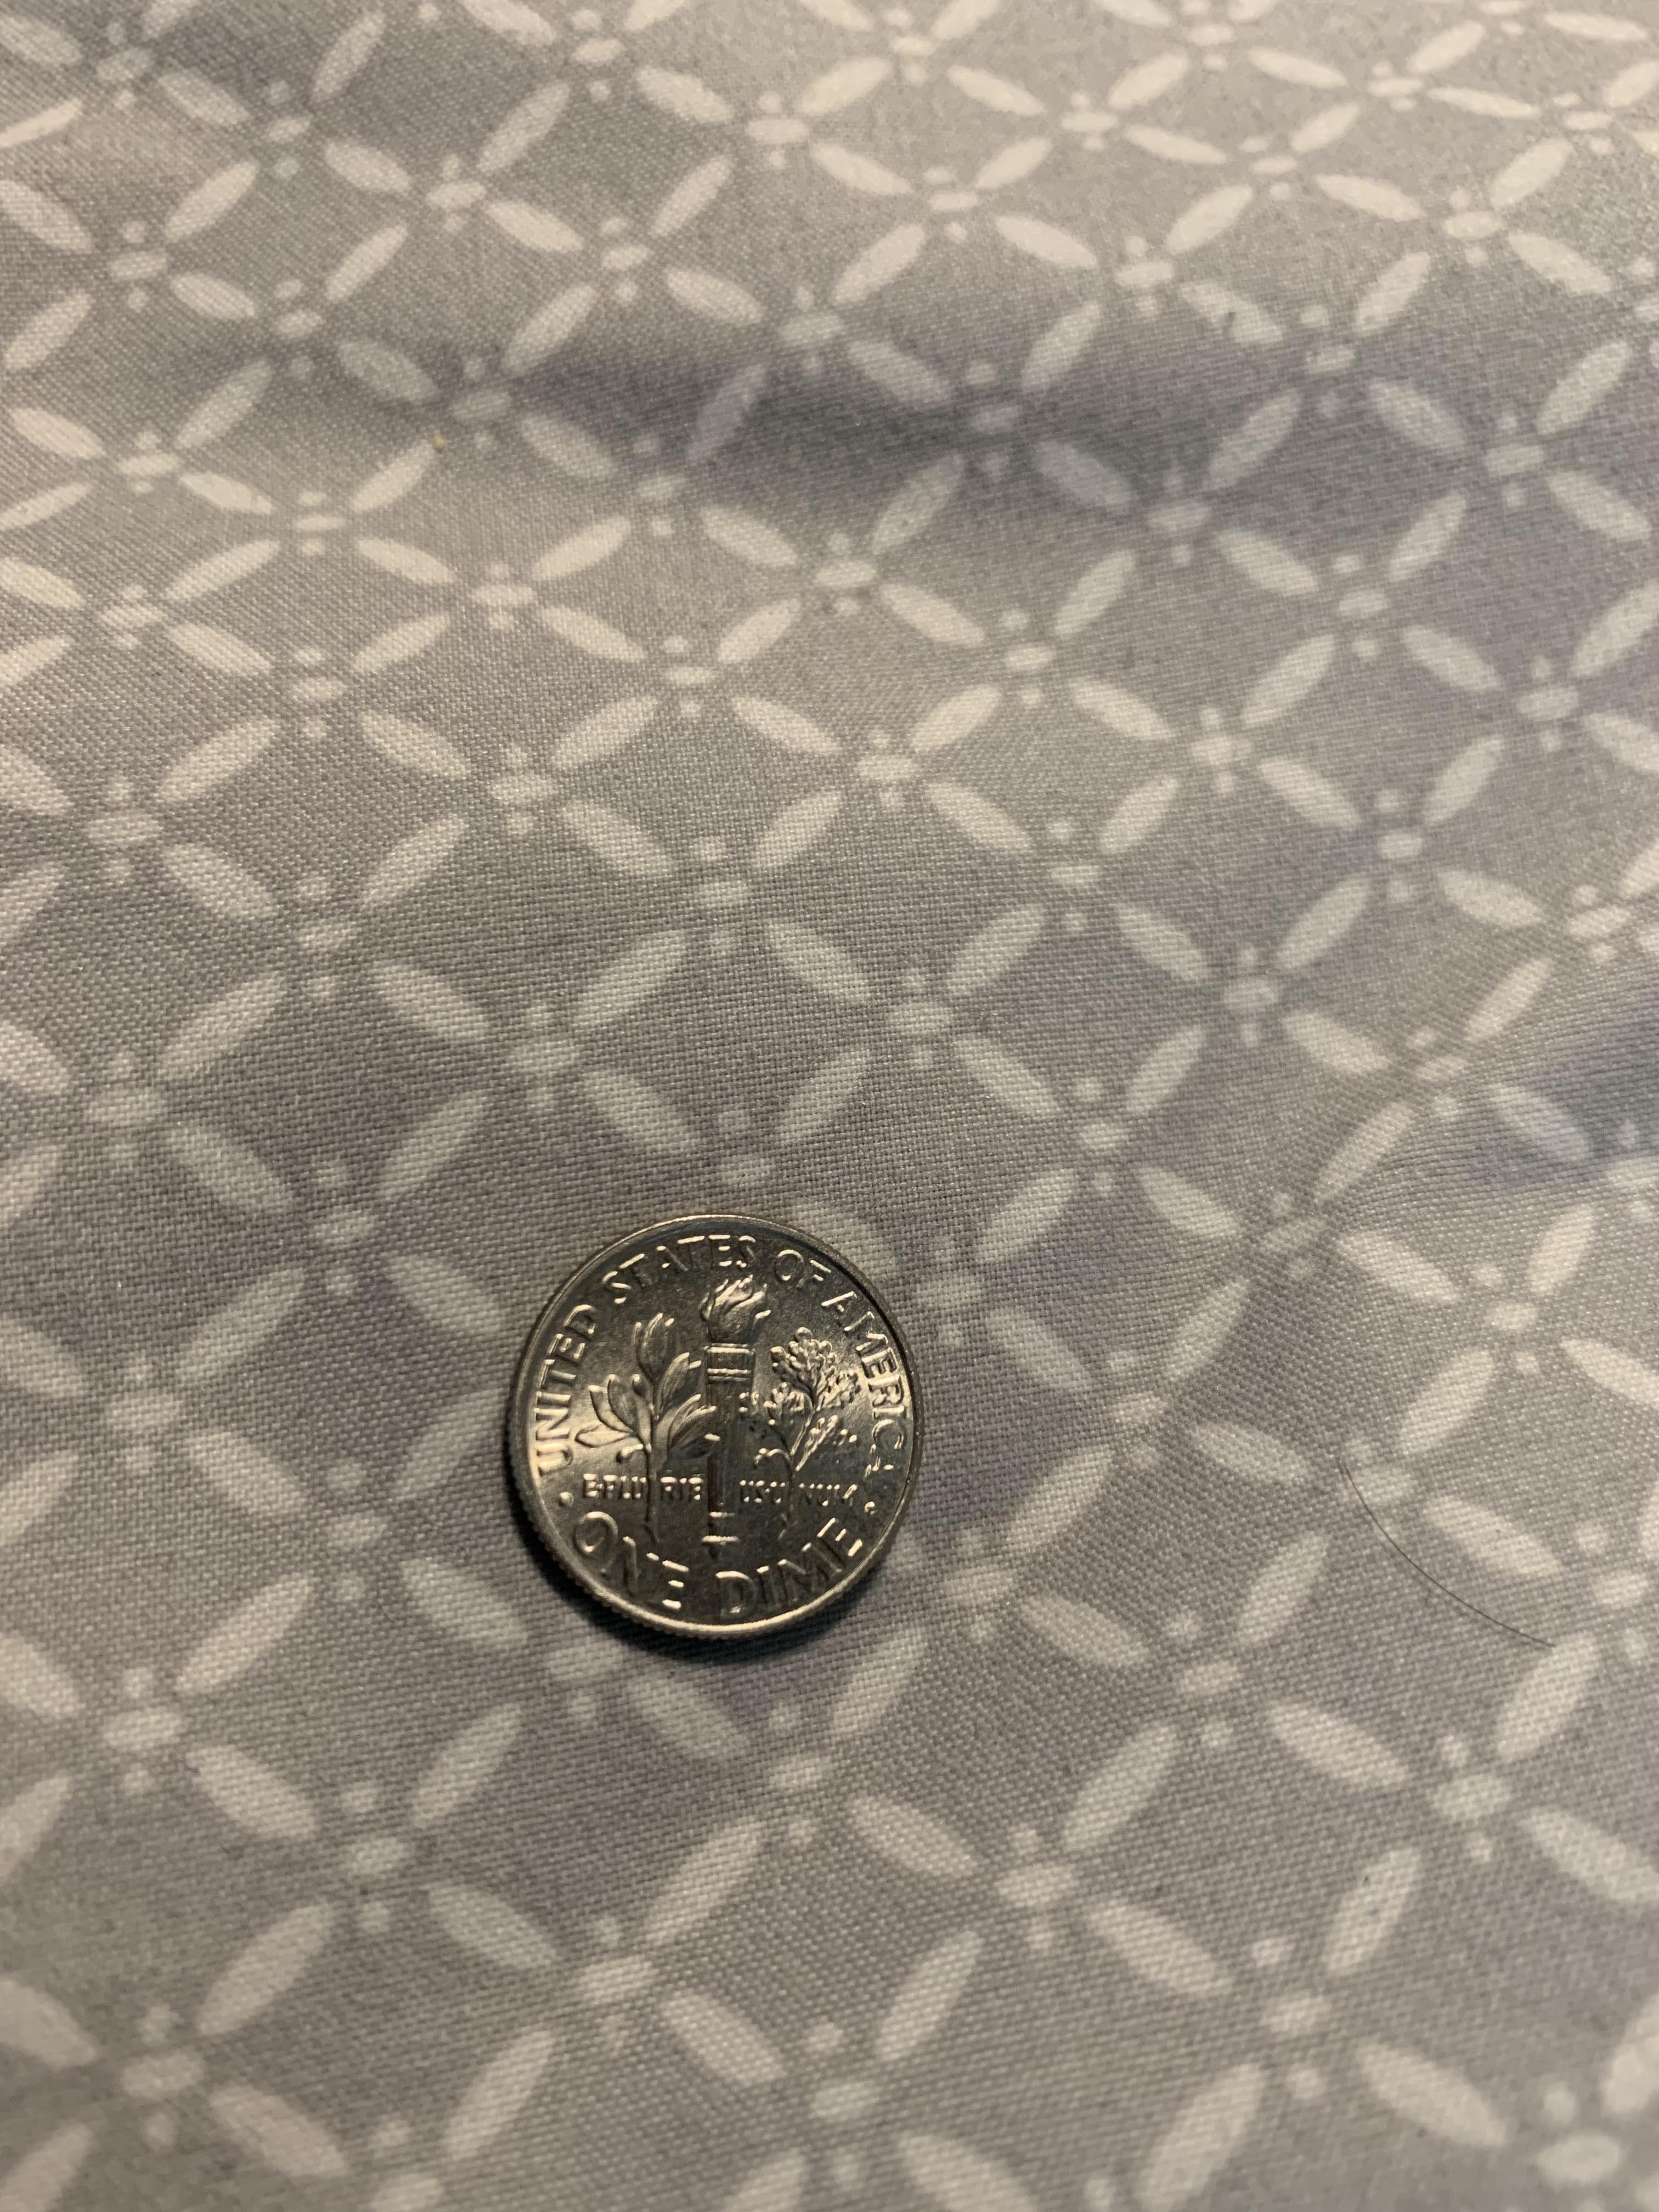Dime: (488, 1197, 943, 1660)
